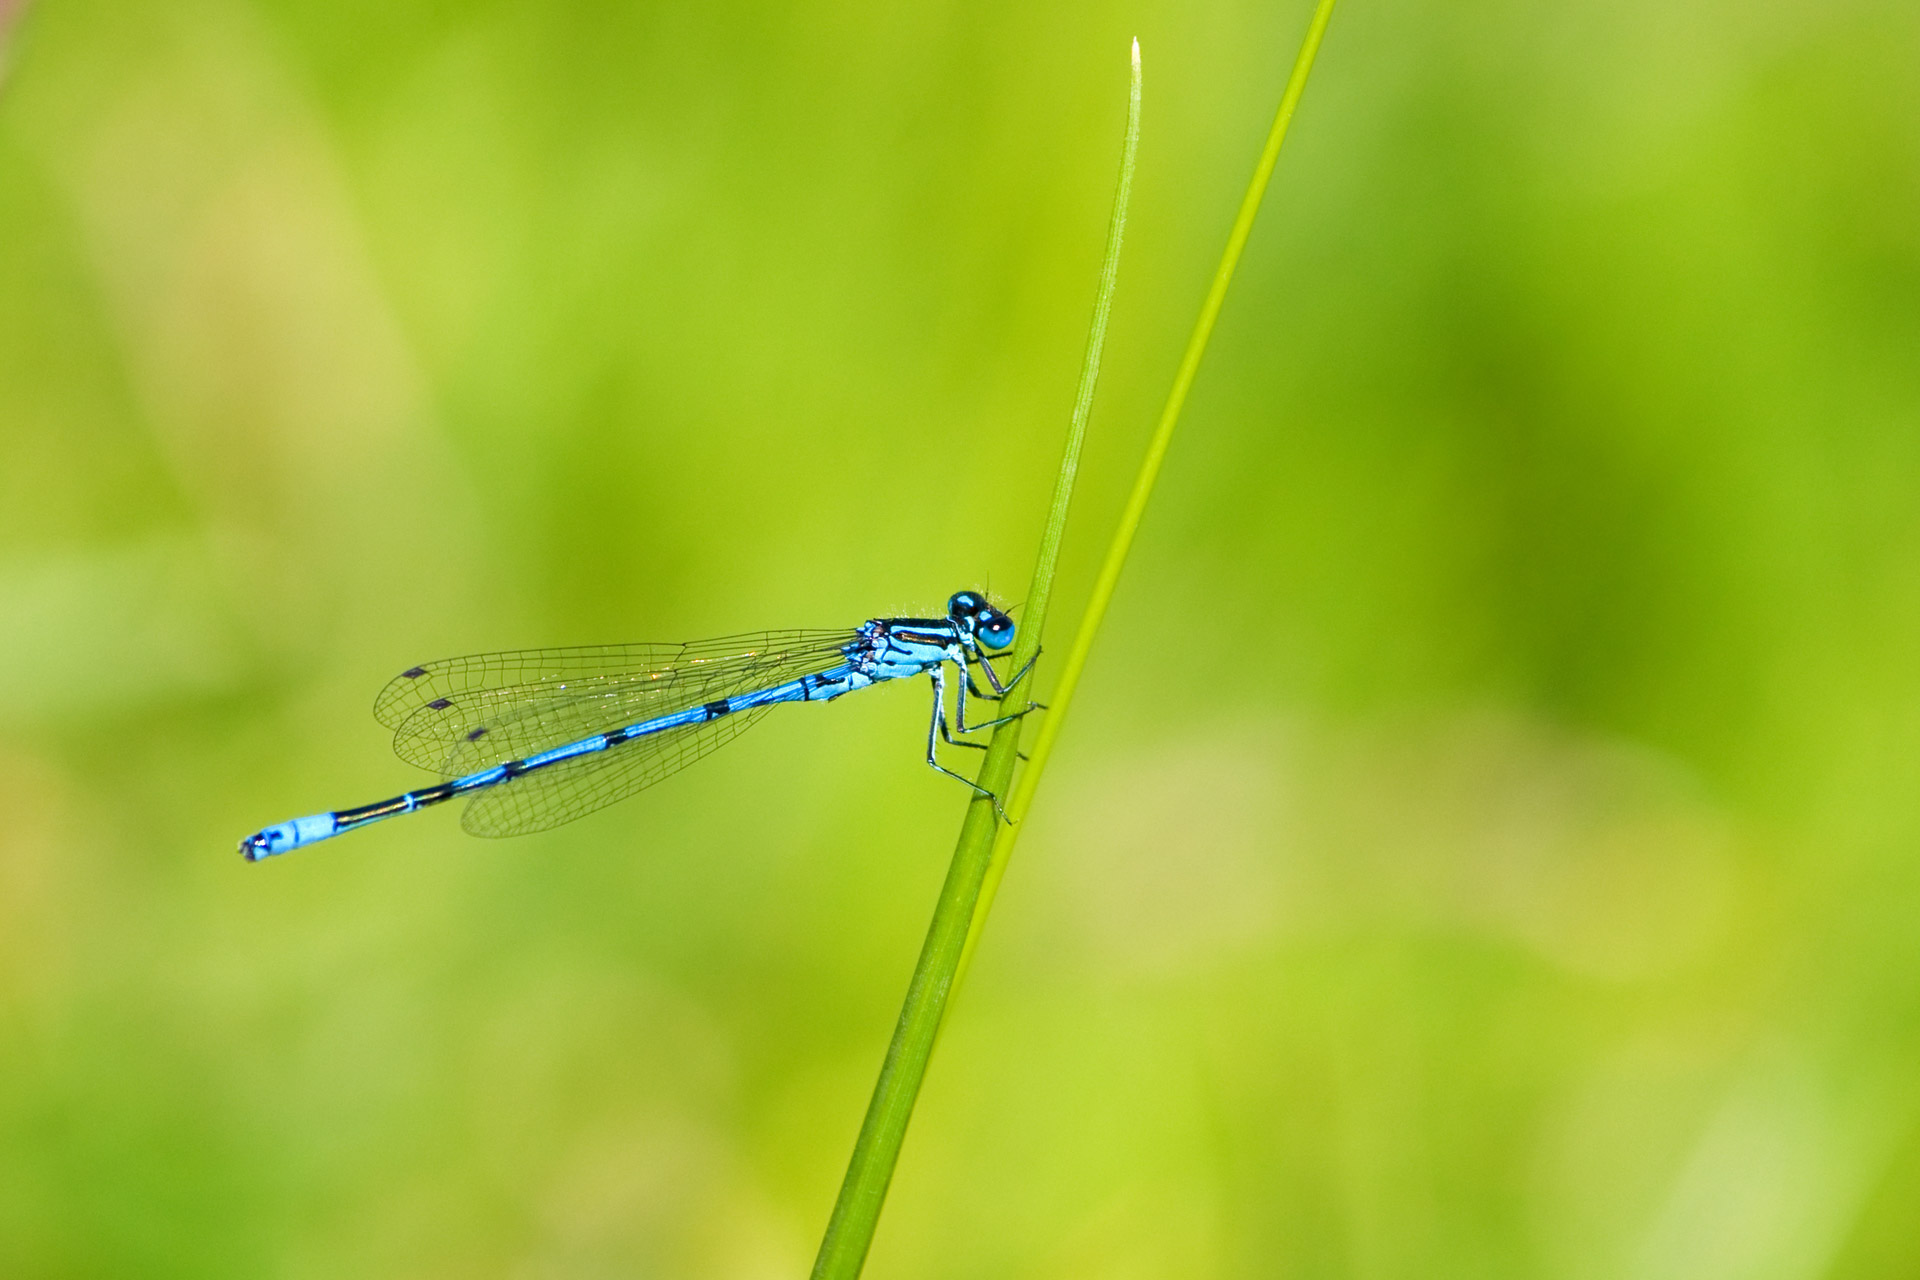insect: (234, 574, 1049, 874)
